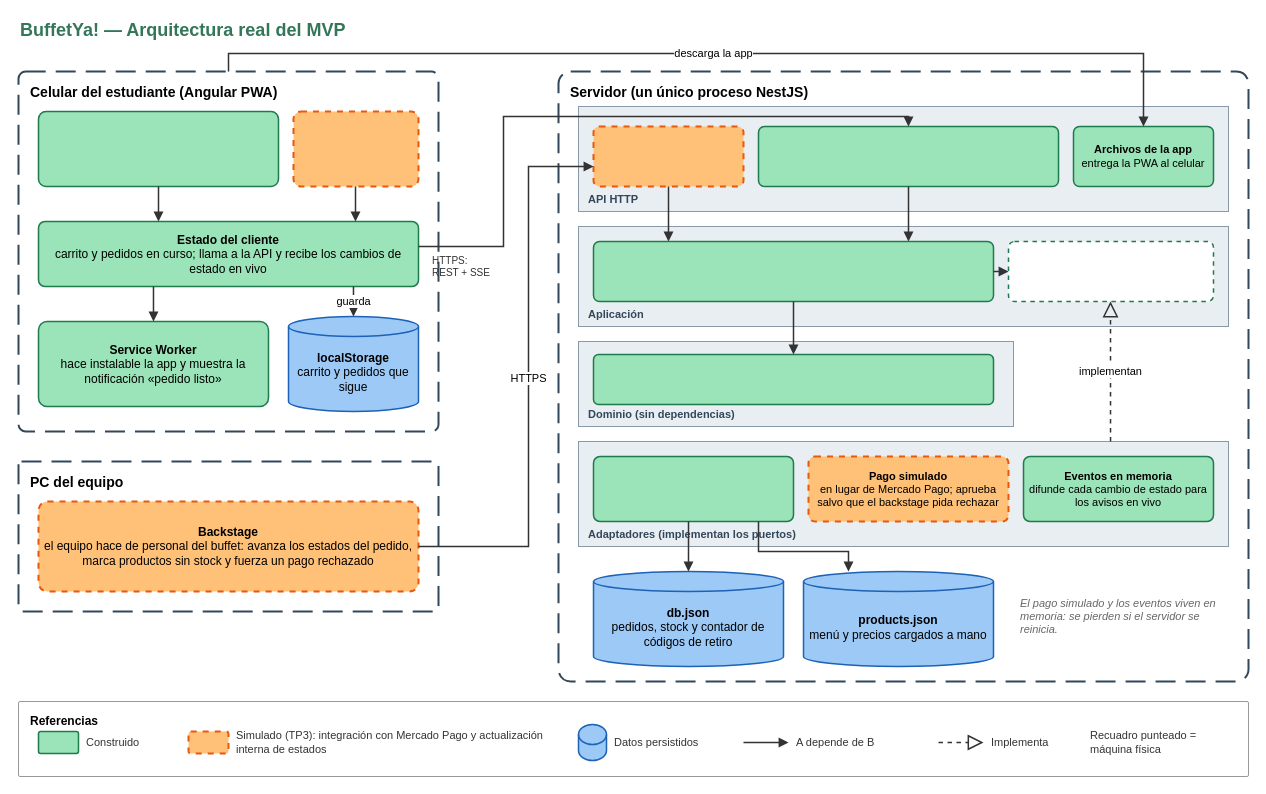
Image size: 1266x794. Some labels were removed from this diagram. Here are the shapes that lost their labels. From the top down, the centre of each, then its label:
(x=158, y=148): Pantallas menú, carrito, pago, estado del pedido y retiro
(x=355, y=148): Checkout de Mercado Pago imita la pantalla de MP
(x=668, y=156): Backstage /api/backstage, con clave
(x=908, y=156): Productos y pedidos /api/products y /api/orders (REST y avisos en vivo por SSE)
(x=793, y=271): Casos de uso menú y stock; cotizar, crear y pagar pedidos, cambiar su estado
(x=1110, y=271): Puertos interfaces hacia afuera
(x=793, y=379): Reglas del negocio estados del pedido, precios, demora y código de retiro
(x=693, y=488): Repositorio JSON lee y guarda los datos en archivos
